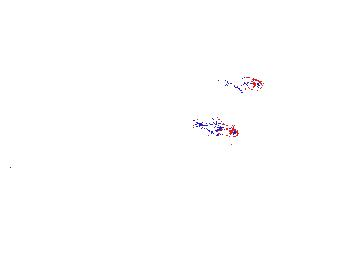red belly glassfish: (192, 119, 240, 142), (220, 74, 265, 97)
